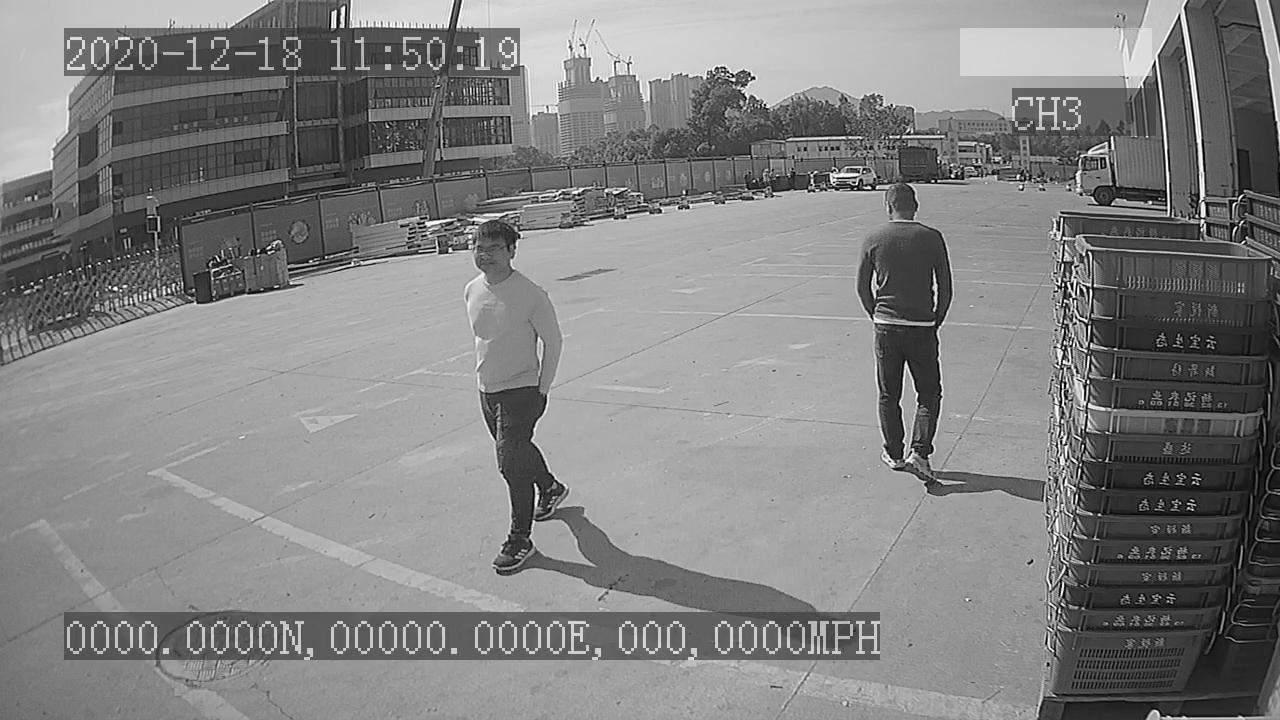person: (456, 215, 574, 576), (851, 181, 956, 483)
